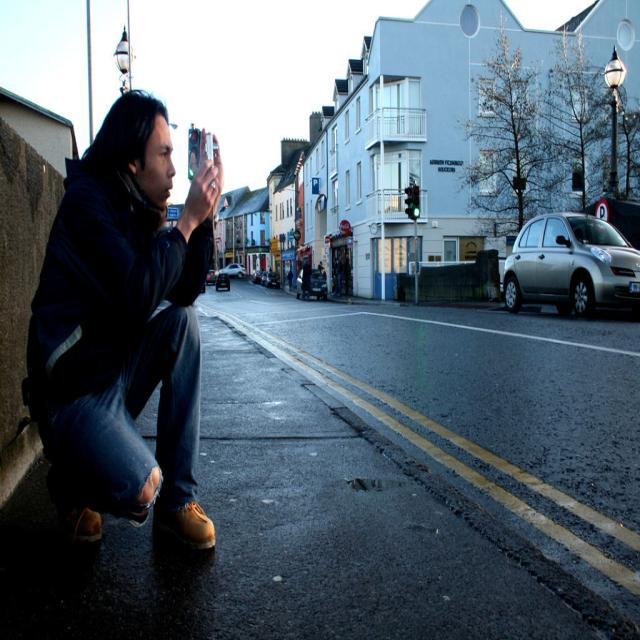car: (499, 199, 630, 315), (294, 264, 328, 301), (261, 269, 281, 292), (220, 256, 245, 273), (216, 267, 228, 286)
